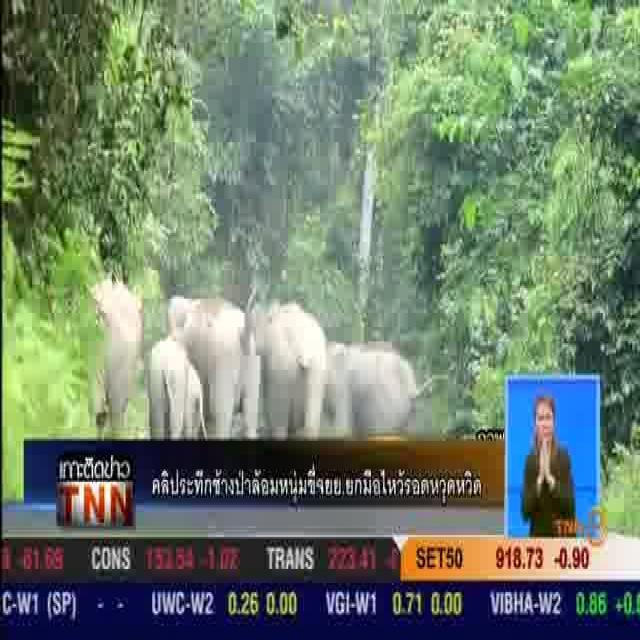Elephant: (329, 341, 421, 438), (188, 297, 258, 418), (260, 297, 325, 422), (92, 270, 141, 408), (150, 340, 194, 440)
